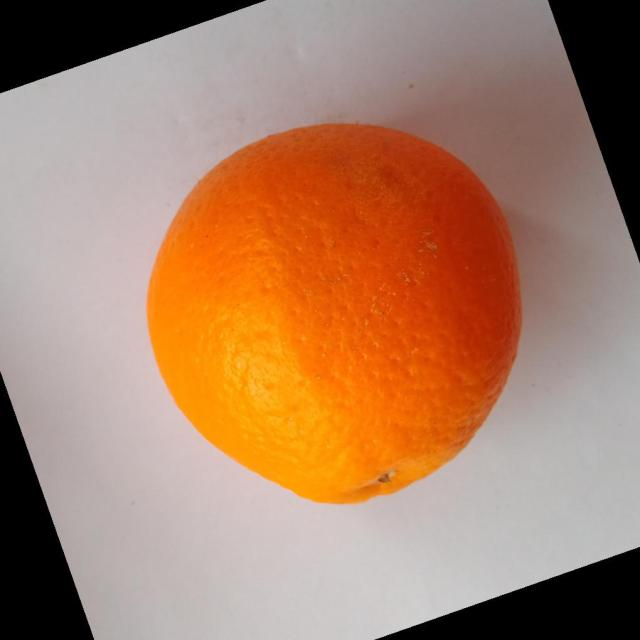fresh orange: (145, 121, 523, 505)
